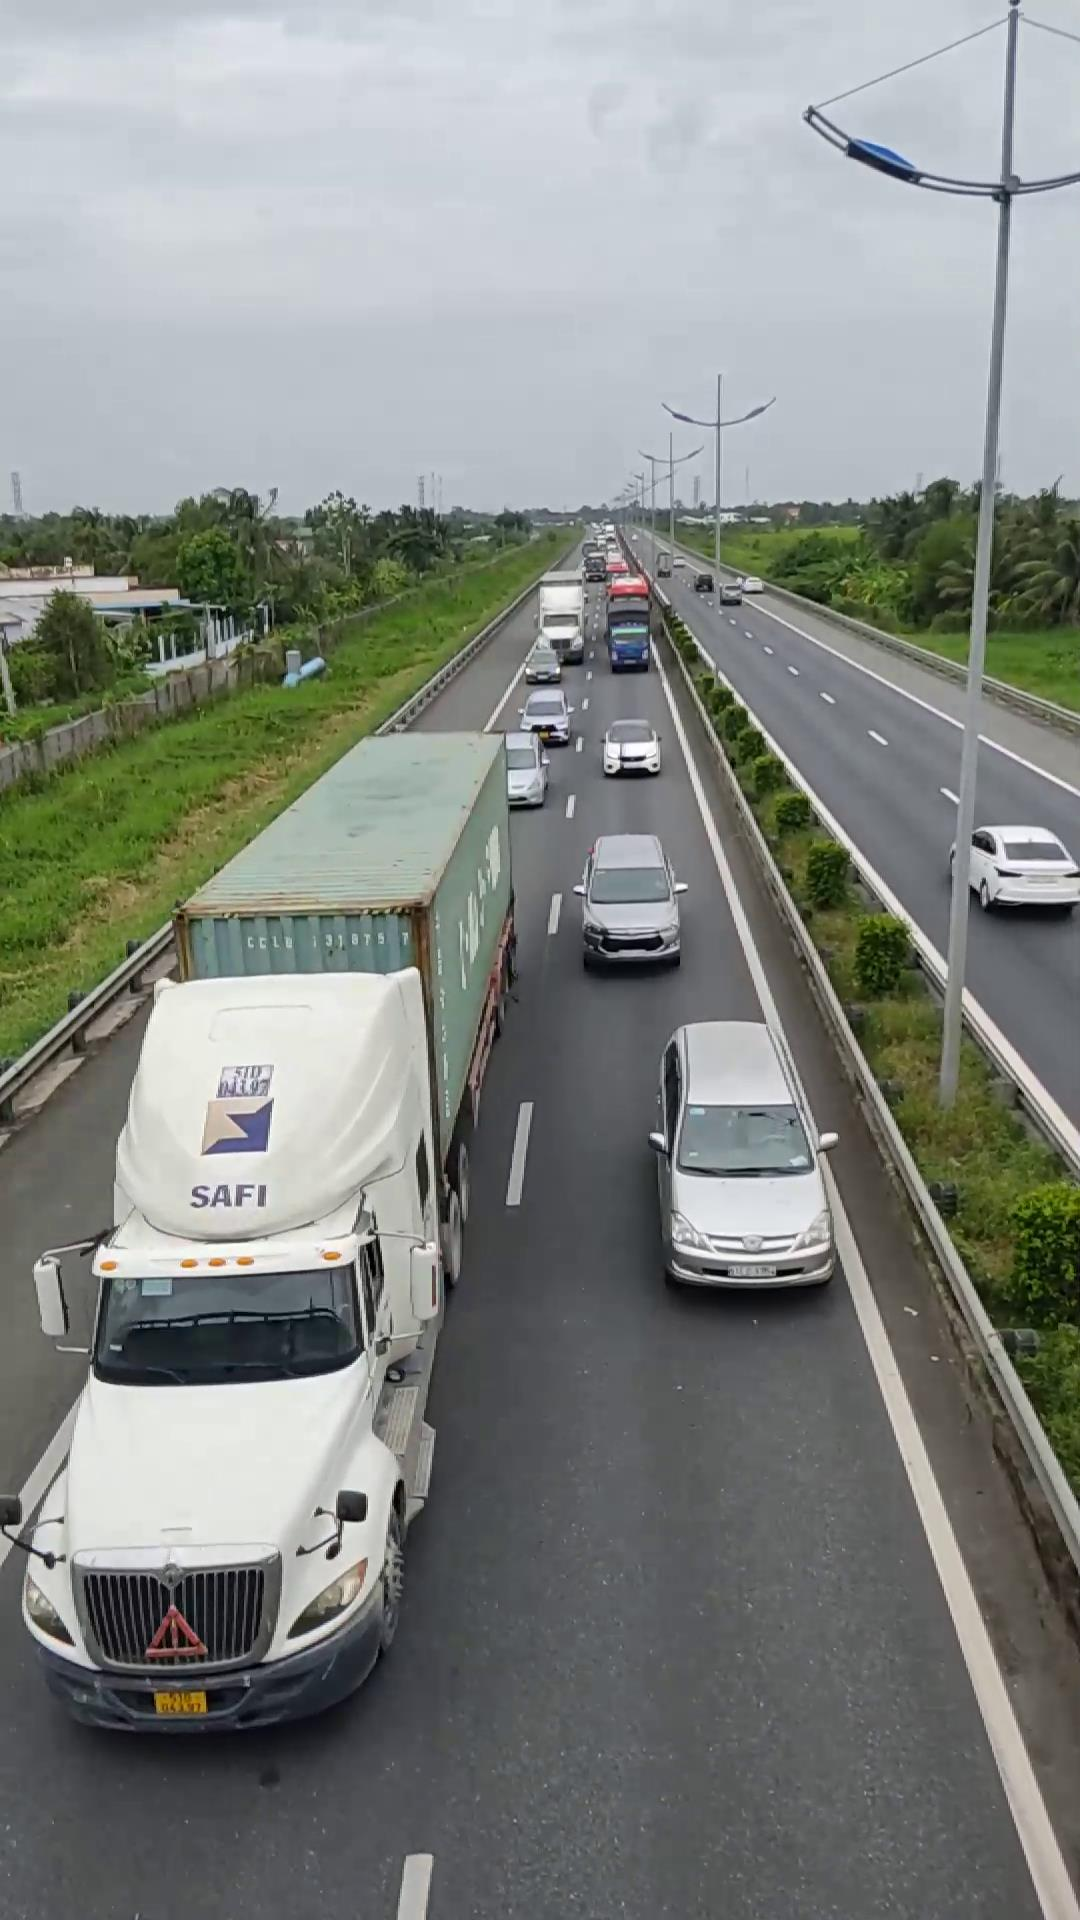car: (647, 1015, 841, 1292), (575, 832, 686, 973), (949, 822, 1077, 913)
container: (18, 724, 516, 1741)
